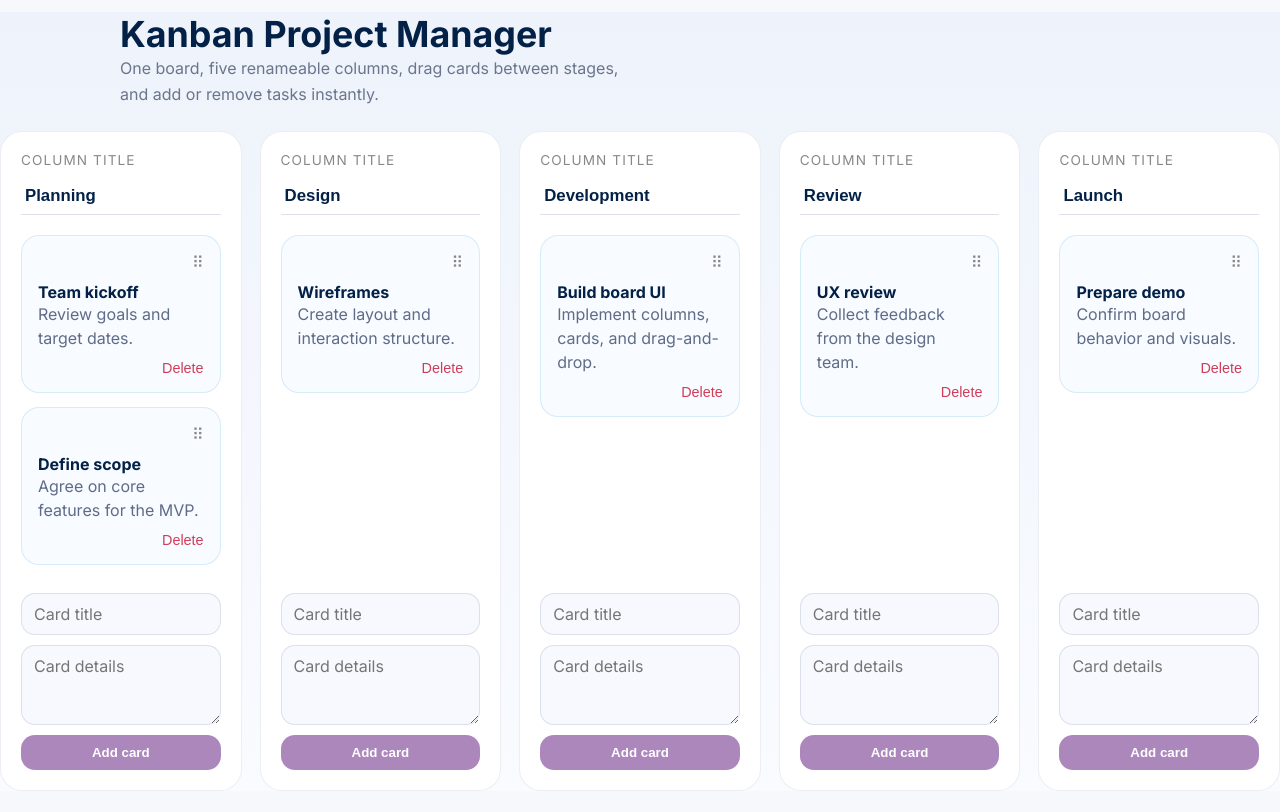
it: KanbanBoard › deletes the team kickoff card when delete is clicked
The width and height of the screenshot is (1280, 812).
Click the 1st button with class "delete-button" at [183, 368], box [162,360,204,376]
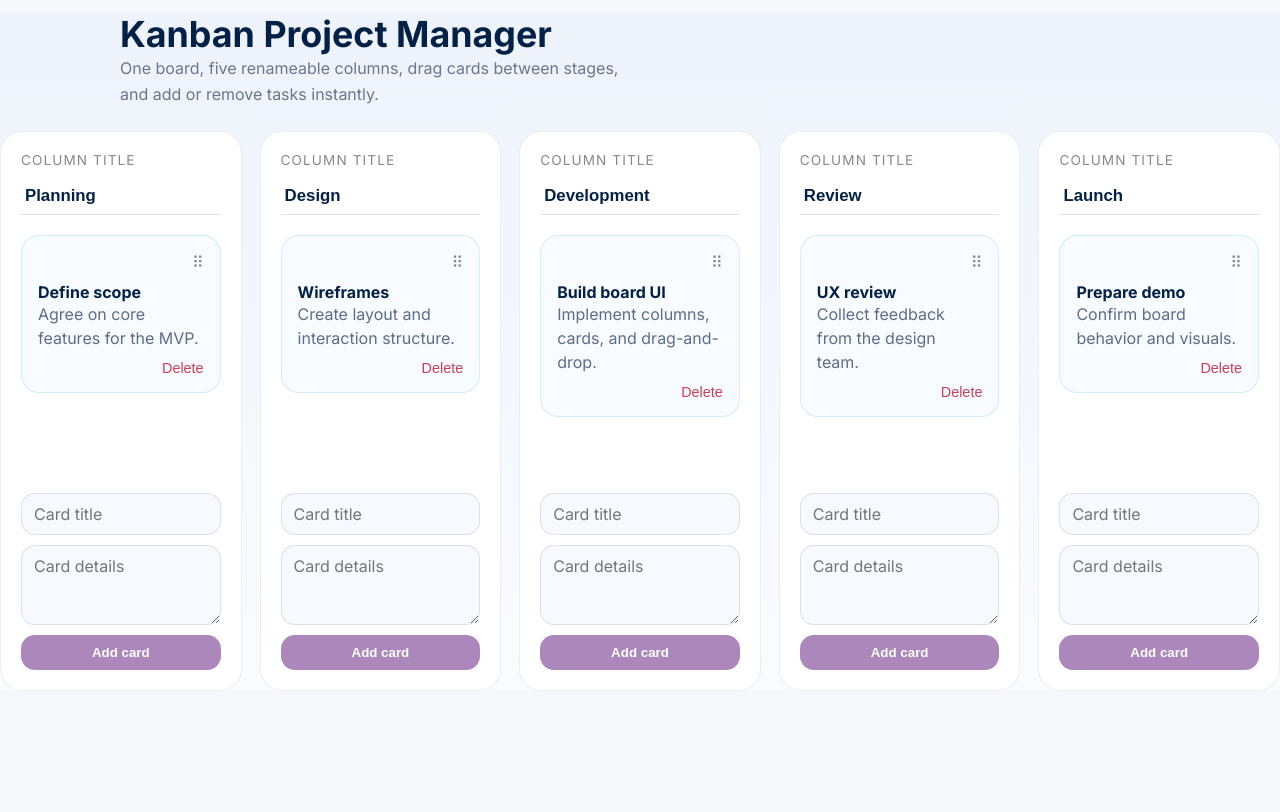
Expected: the button "Team kickoff" is gone
